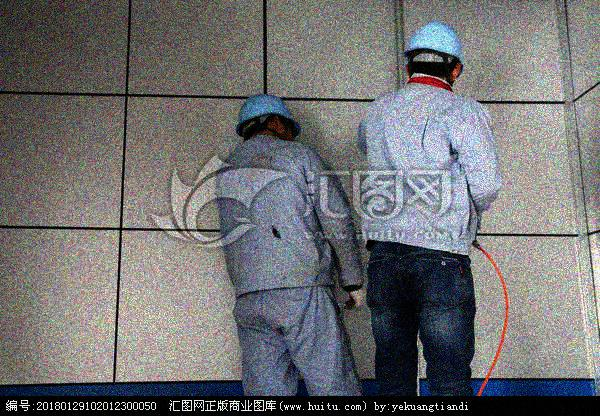helmet: (403, 19, 466, 88), (233, 93, 303, 144)
